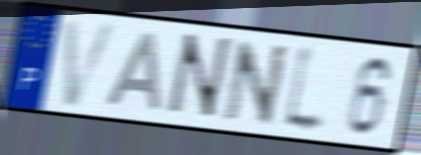6: (347, 54, 393, 139)
A: (102, 29, 163, 113)
L: (279, 40, 332, 141)
N: (160, 31, 236, 123), (221, 39, 292, 129)
V: (60, 17, 122, 109)
